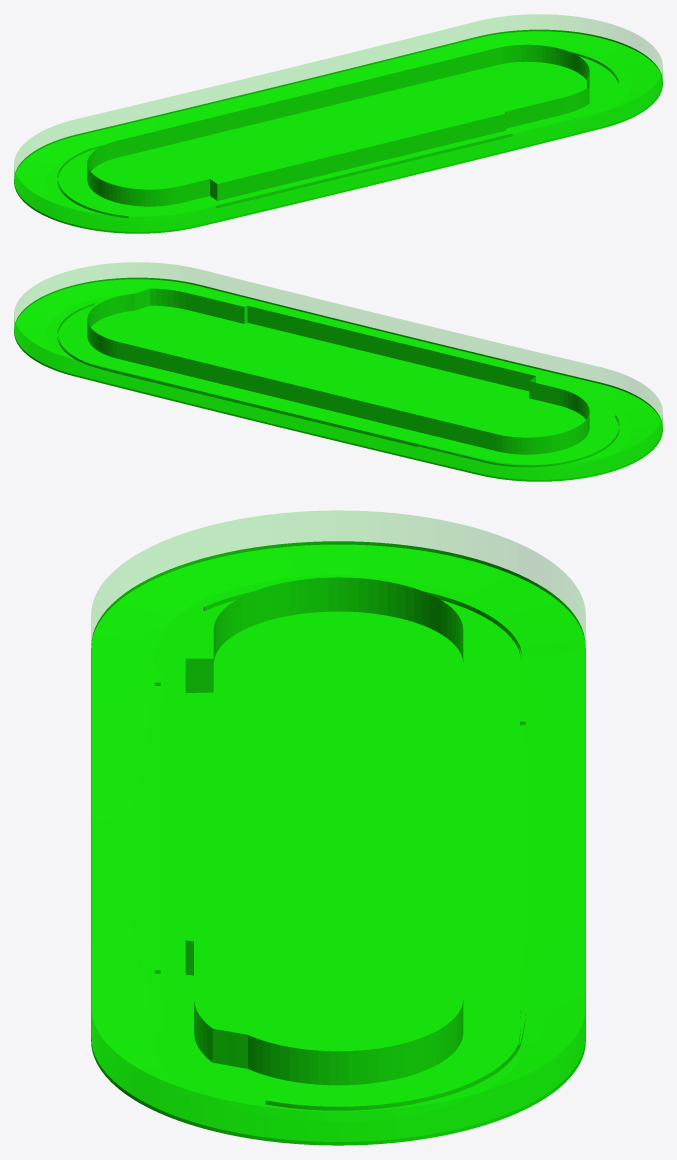
Rendered from MartinsColiders.FBX.
3 renders of one model, top to bottom at view 1: azimuth 30°, elevation 25°; view 2: azimuth 150°, elevation 25°; view 3: azimuth 270°, elevation 25°, orthographic. The views are drawn at different scales.
Parts seen in each view (by area): view 1: PistaCentroMartinsVilleColider, PistaMartinsVilleColiderHiPoly, MartinsVilleExternoColider, MartinsVilleInternoColider, PistaMartinsVilleColiderLow, MuretaExternaColider, GramadoMartinsVilleColider, MuretaMartinsVilleColider; view 2: PistaMartinsVilleColiderHiPoly, MartinsVilleExternoColider, PistaCentroMartinsVilleColider, MartinsVilleInternoColider, PistaMartinsVilleColiderLow, MuretaExternaColider, MuretaMartinsVilleColider, GramadoMartinsVilleColider; view 3: PistaMartinsVilleColiderHiPoly, PistaCentroMartinsVilleColider, PistaMartinsVilleColiderLow, MartinsVilleExternoColider, MartinsVilleInternoColider, GramadoMartinsVilleColider, MuretaExternaColider, MuretaMartinsVilleColider.
Boxes of the visible parts, bbox=[...] form: PistaCentroMartinsVilleColider: bbox=[91, 61, 586, 189]; PistaMartinsVilleColiderHiPoly: bbox=[14, 31, 662, 231]; MartinsVilleExternoColider: bbox=[14, 14, 662, 233]; MartinsVilleInternoColider: bbox=[87, 44, 589, 206]; PistaMartinsVilleColiderLow: bbox=[24, 37, 653, 225]; MuretaExternaColider: bbox=[14, 29, 662, 233]; GramadoMartinsVilleColider: bbox=[46, 47, 630, 221]; MuretaMartinsVilleColider: bbox=[57, 52, 618, 218]; PistaMartinsVilleColiderHiPoly: bbox=[14, 279, 662, 479]; MartinsVilleExternoColider: bbox=[14, 262, 662, 481]; PistaCentroMartinsVilleColider: bbox=[91, 309, 585, 437]; MartinsVilleInternoColider: bbox=[87, 288, 589, 454]; PistaMartinsVilleColiderLow: bbox=[23, 285, 652, 473]; MuretaExternaColider: bbox=[14, 277, 662, 481]; MuretaMartinsVilleColider: bbox=[57, 303, 619, 467]; GramadoMartinsVilleColider: bbox=[46, 295, 630, 469]; PistaMartinsVilleColiderHiPoly: bbox=[91, 544, 585, 1141]; PistaCentroMartinsVilleColider: bbox=[213, 611, 463, 1051]; PistaMartinsVilleColiderLow: bbox=[91, 544, 585, 1106]; MartinsVilleExternoColider: bbox=[91, 510, 585, 1145]; MartinsVilleInternoColider: bbox=[185, 577, 463, 1085]; GramadoMartinsVilleColider: bbox=[157, 575, 521, 1121]; MuretaExternaColider: bbox=[91, 541, 585, 1145]; MuretaMartinsVilleColider: bbox=[155, 591, 525, 1110].
Size of the model in its own units: 378 by 11 by 132.
